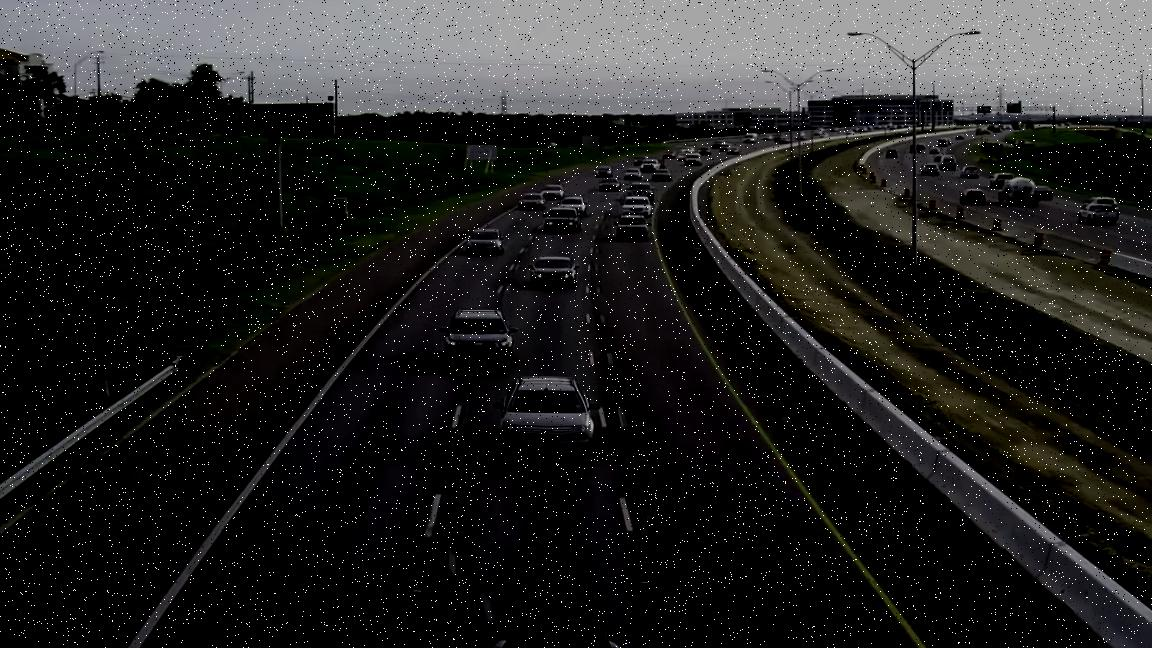car: (496, 376, 593, 456), (435, 311, 520, 366), (484, 628, 646, 648), (530, 257, 579, 287), (1075, 200, 1118, 226), (468, 229, 505, 254), (546, 214, 586, 234), (617, 220, 651, 240), (517, 198, 543, 211), (965, 190, 989, 204), (543, 185, 567, 198), (921, 164, 945, 177), (964, 168, 983, 180)
